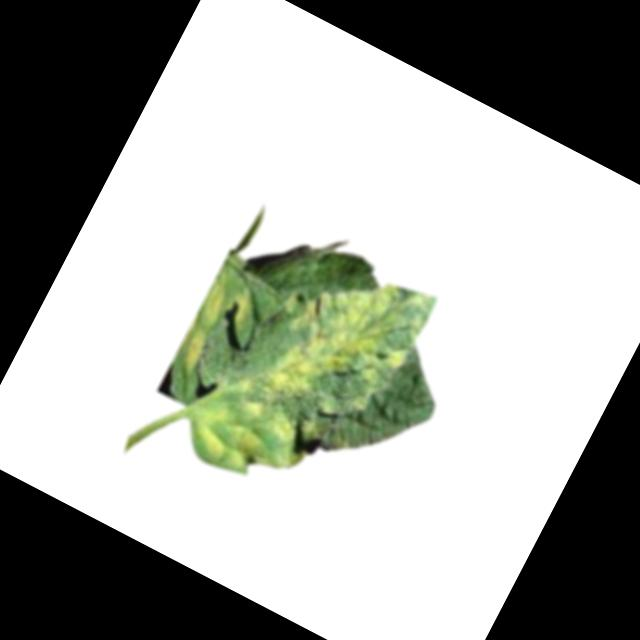Leaf_Mold: (244, 236, 438, 439), (178, 365, 327, 504), (192, 275, 235, 329), (175, 326, 211, 374), (223, 288, 254, 328)
